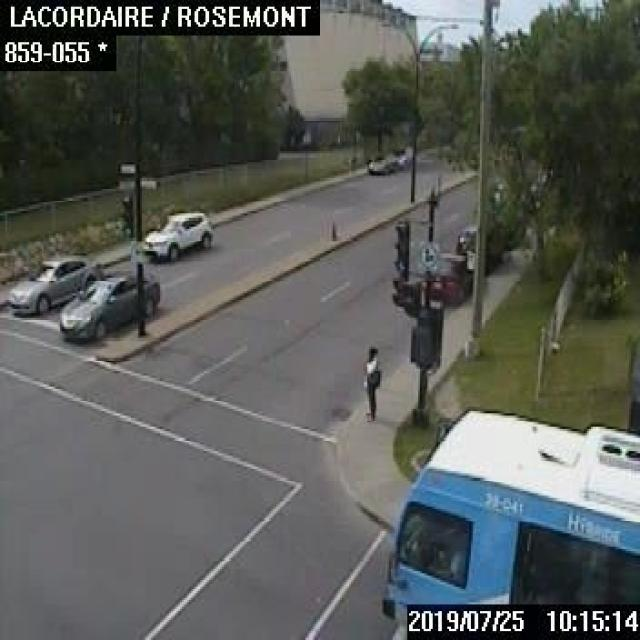bus: (379, 408, 638, 629)
pedestrian: (361, 344, 380, 418)
vehicle: (57, 270, 159, 337), (8, 253, 102, 313), (142, 209, 212, 258), (456, 225, 501, 269), (430, 253, 470, 302), (366, 152, 396, 173), (391, 146, 412, 166)
